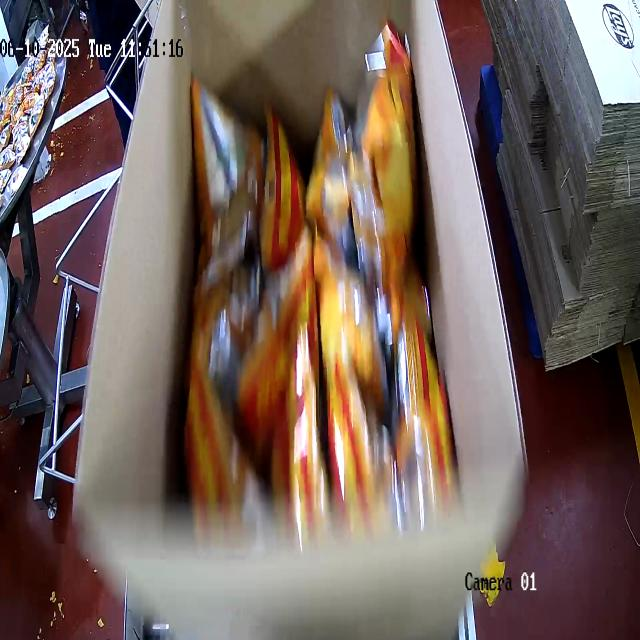FRENCH_CHEESE: (182, 46, 454, 497)
